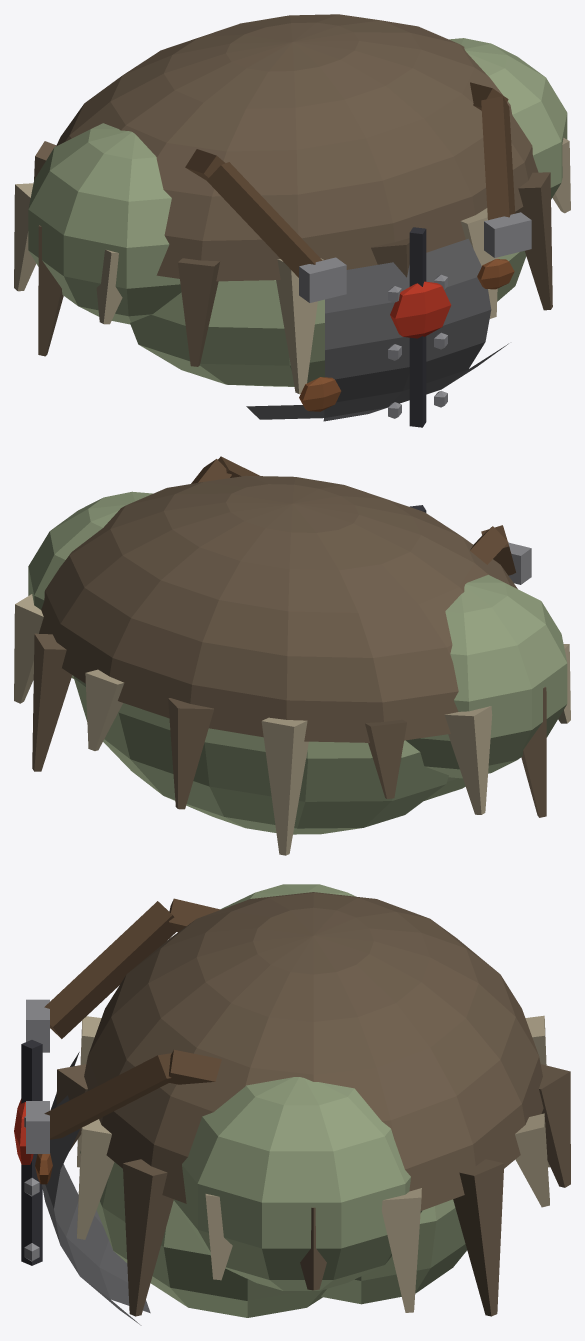
The model's file is stonebrow_chest.glb.
3 views of the same model, one above another, from view 1: azimuth 30°, elevation 25°; view 2: azimuth 150°, elevation 25°; view 3: azimuth 270°, elevation 25° (orthographic). The views are drawn at different scales.
Visible parts, largest first — view 1: stonebrow_chest; view 2: stonebrow_chest; view 3: stonebrow_chest.
Part boxes in pixels (left/top/right/bottom): stonebrow_chest: left=14, top=14, right=570, bottom=427; stonebrow_chest: left=14, top=456, right=570, bottom=855; stonebrow_chest: left=14, top=884, right=570, bottom=1325.
Bounding box in the file's own units: 1.1 × 0.6538 × 0.9298.
